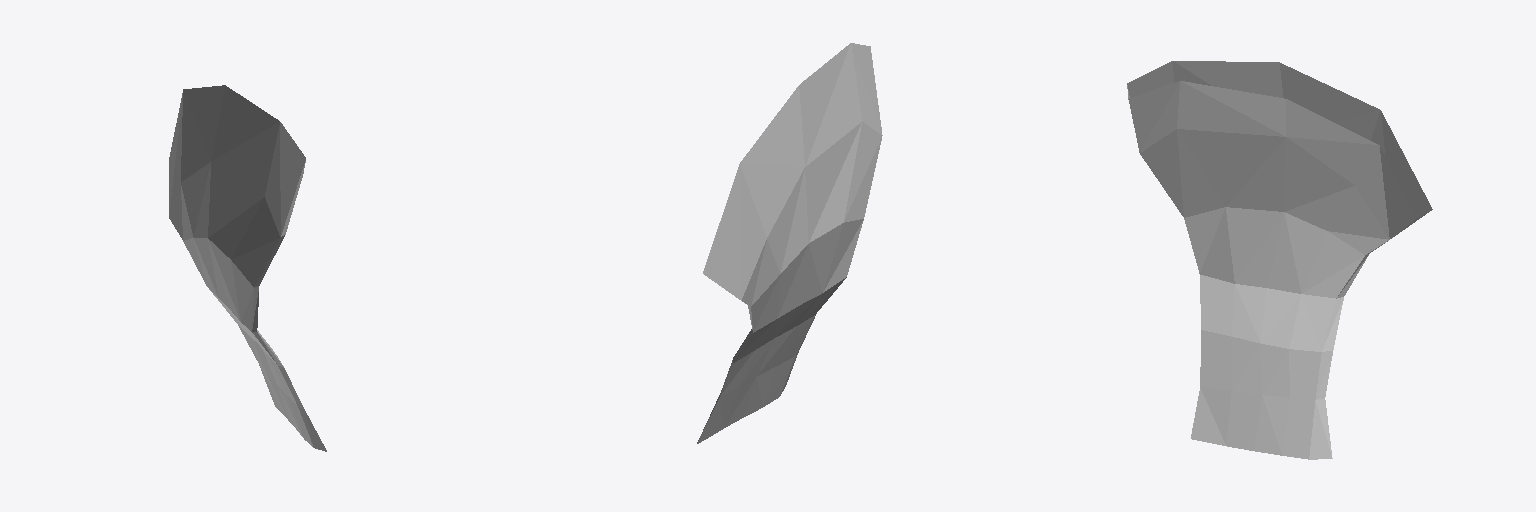
The model's file is Superior_Auricular_Muscle_Right.obj.
The picture shows the model from 3 angles: view 1: azimuth 30°, elevation 25°; view 2: azimuth 150°, elevation 25°; view 3: azimuth 270°, elevation 25°; orthographic projection.
Parts seen in each view (by area): view 1: Superior_Auricular_Muscle_Right_Mesh group1; view 2: Superior_Auricular_Muscle_Right_Mesh group1; view 3: Superior_Auricular_Muscle_Right_Mesh group1.
Boxes of the visible parts, <box> form: Superior_Auricular_Muscle_Right_Mesh group1: <box>169,85,326,451</box>; Superior_Auricular_Muscle_Right_Mesh group1: <box>697,43,882,443</box>; Superior_Auricular_Muscle_Right_Mesh group1: <box>1127,61,1432,459</box>.
Bounding box in the file's own units: 0.1585 × 0.5448 × 0.4171.